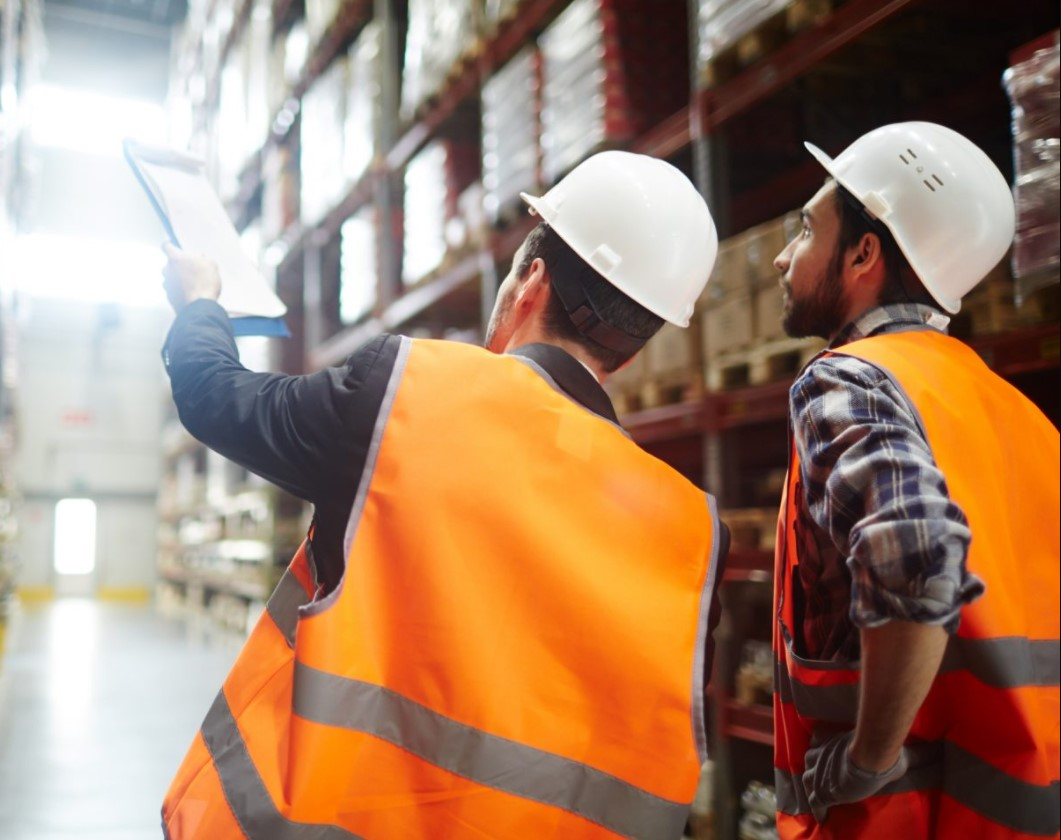worker: (160, 149, 717, 839), (774, 124, 1059, 840)
